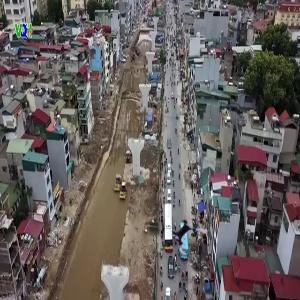drone: (169, 218, 209, 258)
